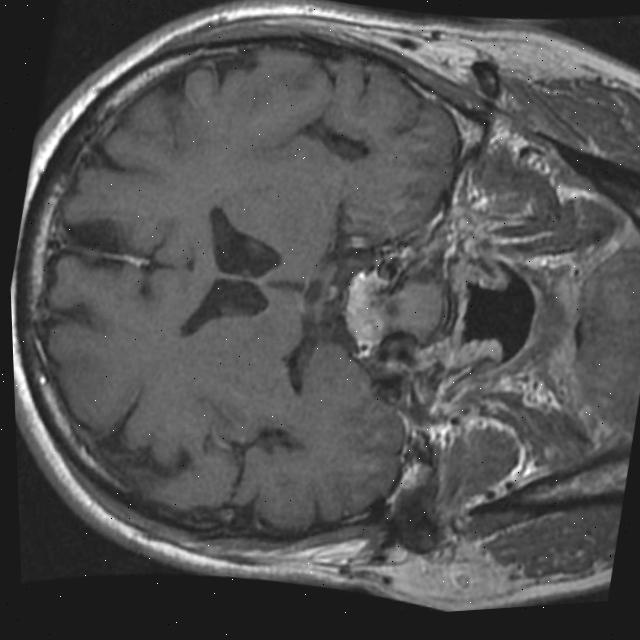Pituitary: (335, 263, 399, 351), (383, 273, 455, 350)
